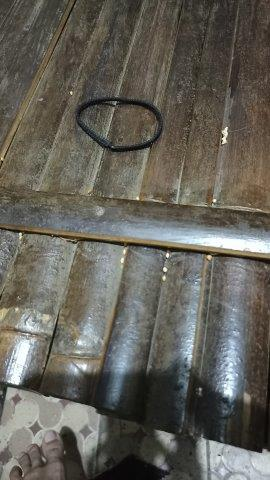karet: (75, 97, 164, 151)
